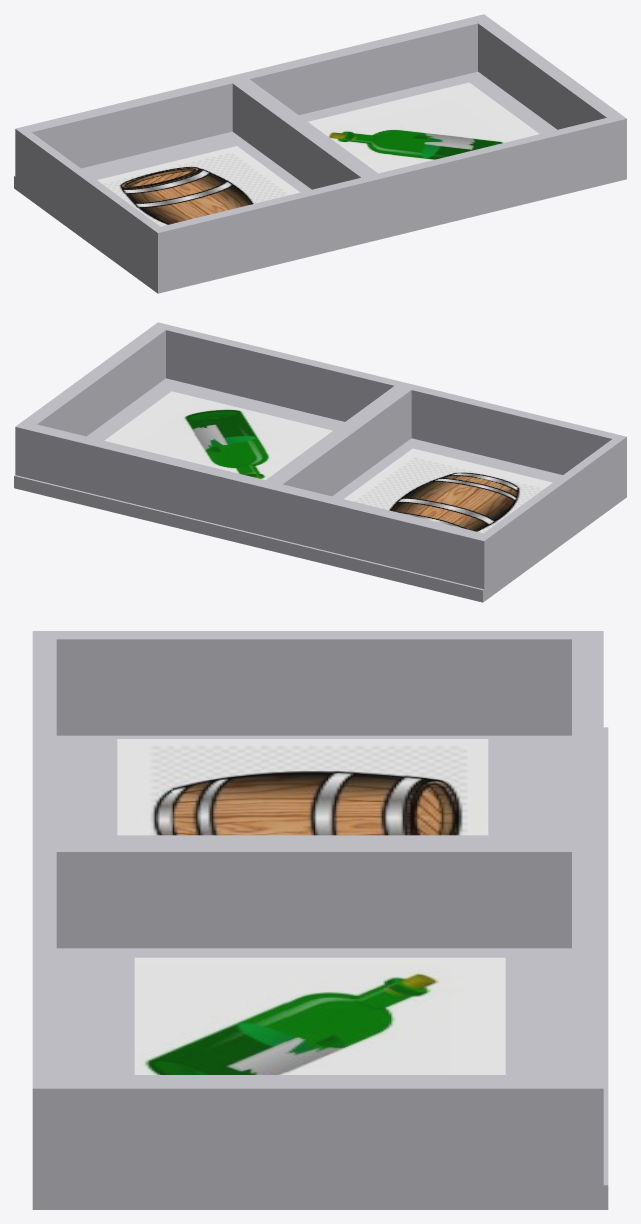
The model's file is bin.dae.
3 renders of one model, top to bottom at view 1: azimuth 30°, elevation 25°; view 2: azimuth 150°, elevation 25°; view 3: azimuth 270°, elevation 25°, orthographic. The views are drawn at different scales.
Visible parts, largest first — view 1: Bin, bottle, barrel; view 2: Bin, bottle, barrel; view 3: Bin, bottle, barrel.
Part boxes in pixels (<box>): Bin: <box>14,14,626,293</box>; bottle: <box>308,82,539,173</box>; barrel: <box>97,146,300,226</box>; Bin: <box>14,322,626,602</box>; bottle: <box>104,391,332,479</box>; barrel: <box>344,448,552,533</box>; Bin: <box>32,631,608,1209</box>; bottle: <box>134,957,505,1074</box>; barrel: <box>117,739,488,835</box>.
Bounding box in the file's own units: 2.48 × 1.32 × 0.3063.
3 materials, 2 textured.
